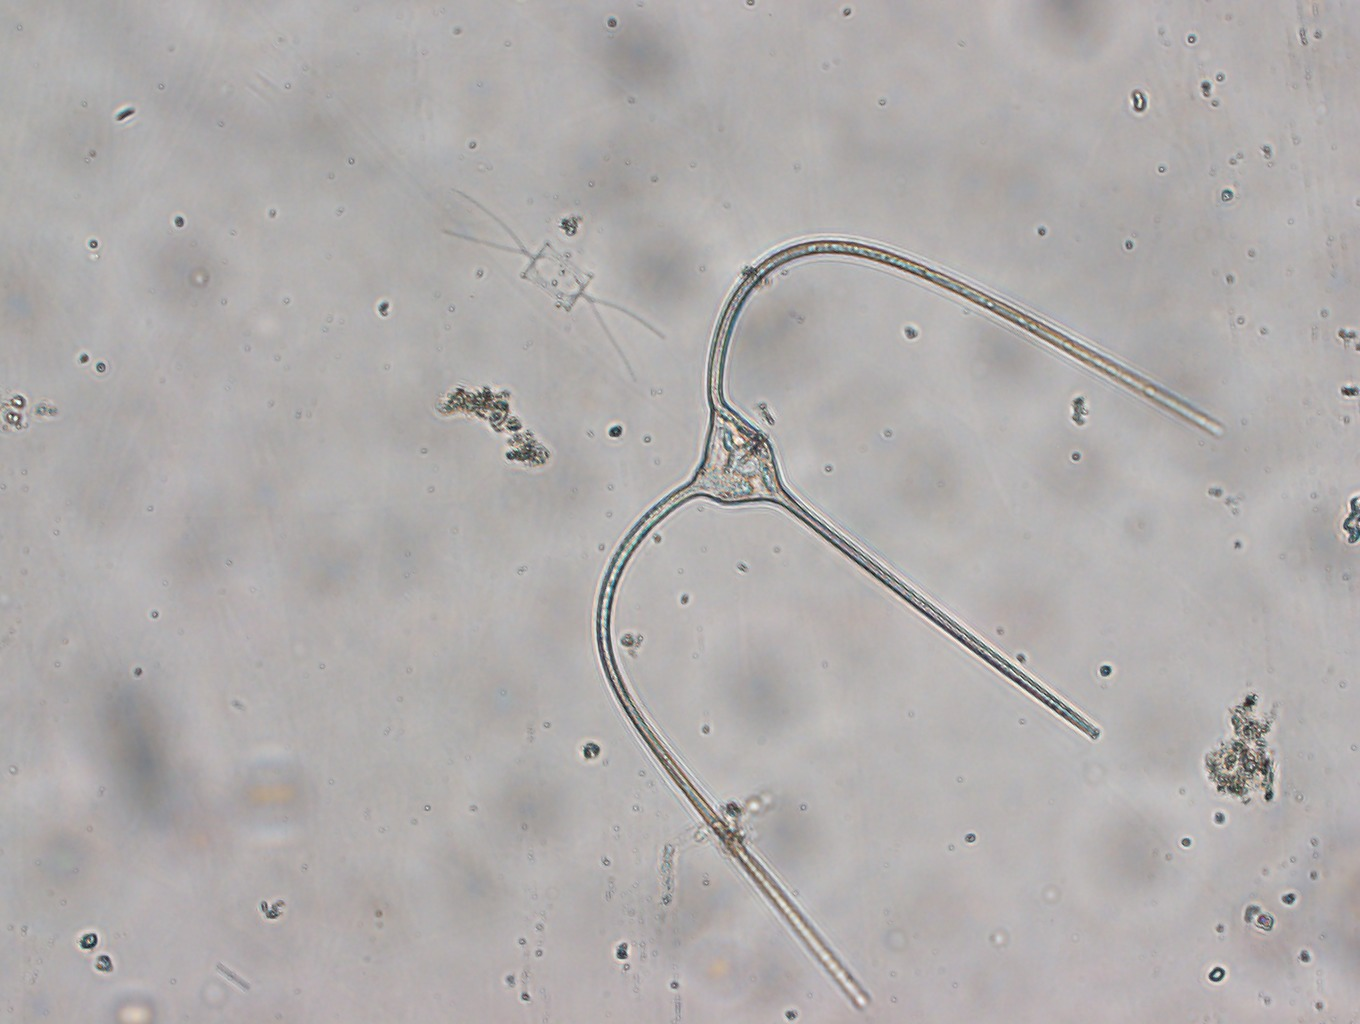ceratium trichoceros: (595, 239, 1226, 1008)
chaetoceros: (440, 181, 667, 384)
